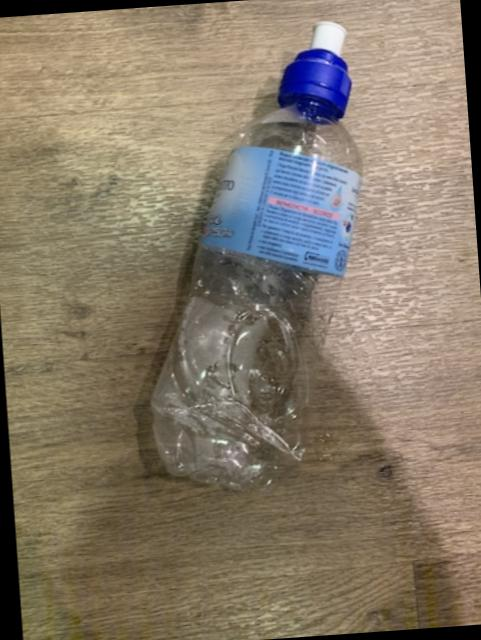plastic: (148, 19, 357, 485)
